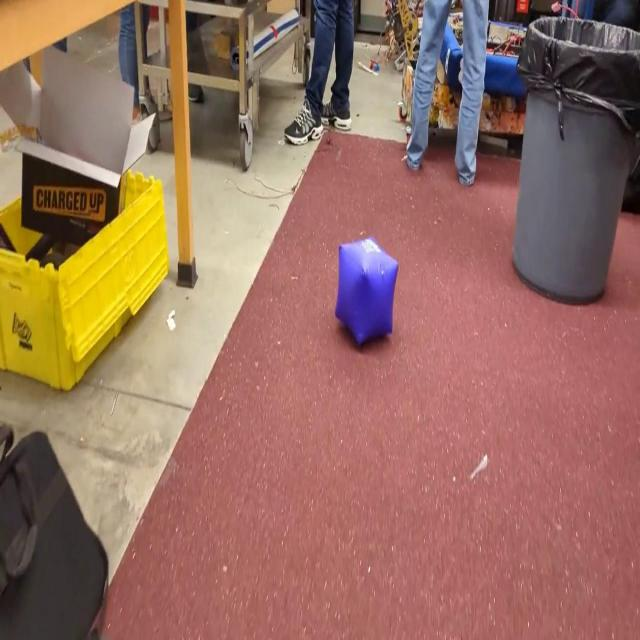frc_cube: (334, 234, 400, 351)
